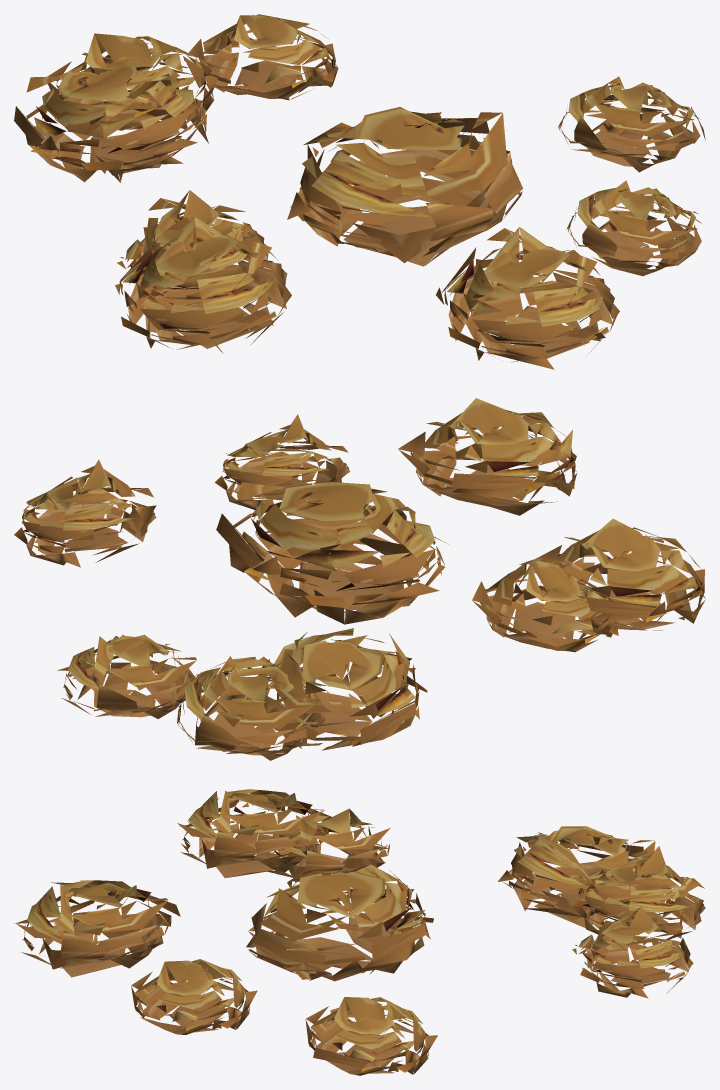
File: desert_boulder_scatter_lod1.glb
The picture shows the model from 3 angles, top to bottom: view 1: azimuth 30°, elevation 25°; view 2: azimuth 150°, elevation 25°; view 3: azimuth 270°, elevation 25°; orthographic projection. The views are drawn at different scales.
Visible parts, largest first — view 1: desert_boulder_scatter.001; view 2: desert_boulder_scatter.001; view 3: desert_boulder_scatter.001.
Part boxes in pixels (<box>): desert_boulder_scatter.001: <box>14,14,705,369</box>; desert_boulder_scatter.001: <box>14,398,705,760</box>; desert_boulder_scatter.001: <box>14,789,705,1075</box>.
Bounding box in the file's own units: 4.71 × 0.7522 × 5.29.
Materials: 1 (1 with a texture image).
